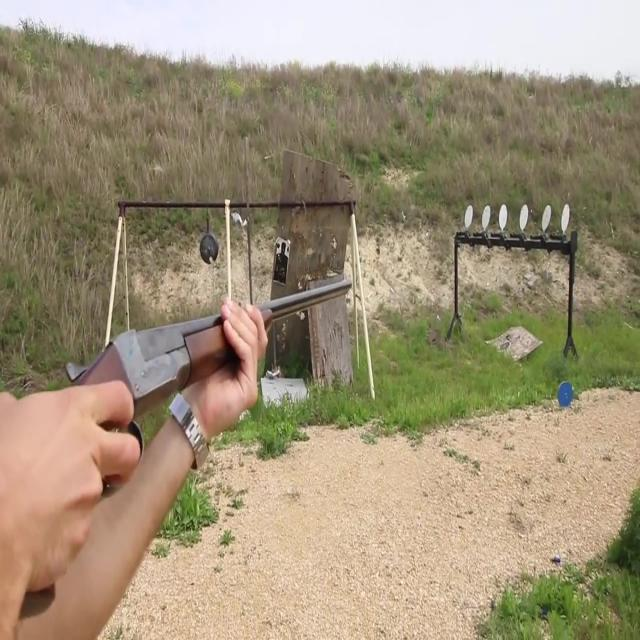Weapon: (9, 260, 378, 528)
